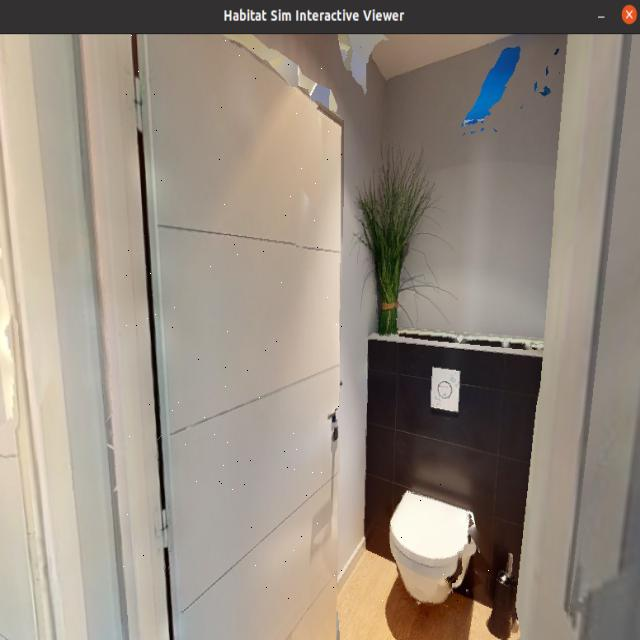door: (123, 33, 345, 640)
toilet: (382, 456, 489, 612)
